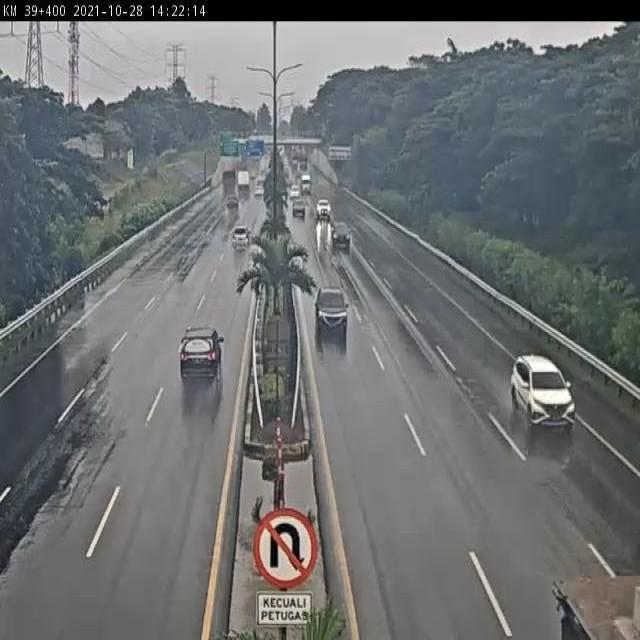car: (511, 352, 578, 432), (179, 324, 225, 387), (313, 285, 350, 339), (330, 220, 354, 252), (231, 224, 252, 249), (315, 196, 331, 216), (292, 199, 307, 220), (225, 193, 240, 212)
